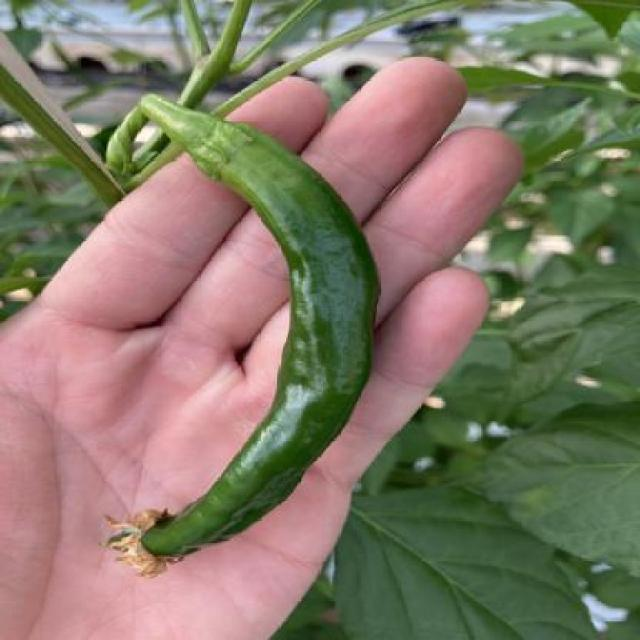green chilli: (241, 203, 314, 537)
